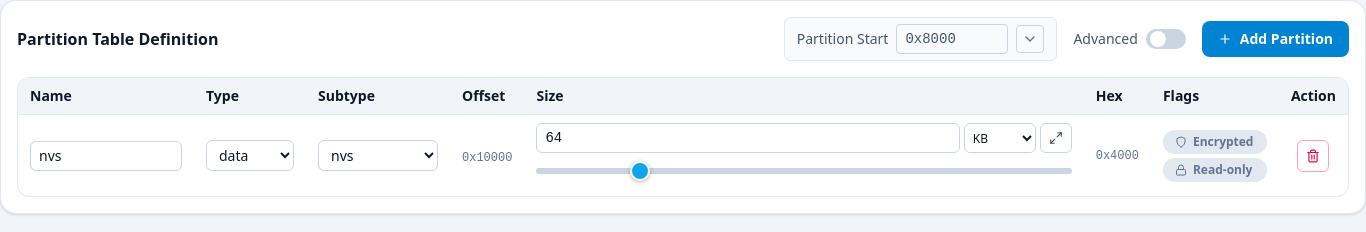
Test: PartitionTableCard › makes the offset an editable input pre-filled with the computed value in advanced mode
Click the checkbox labelled "Advanced".
click(1130, 39)  # box [1073, 29, 1186, 49]
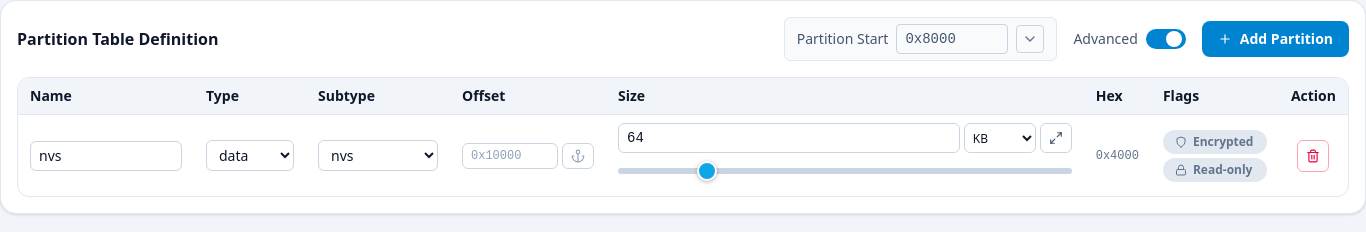
Check: the field showing "0x10000" is shown, box [462, 142, 558, 168]
